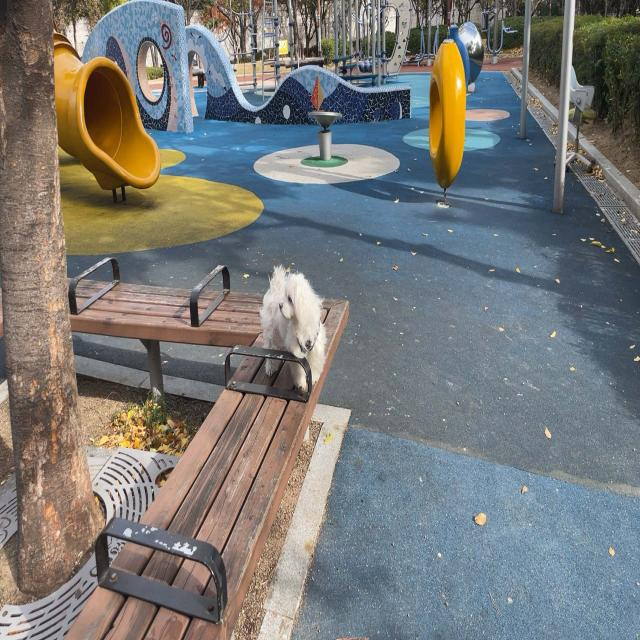Dog: (260, 264, 326, 391)
